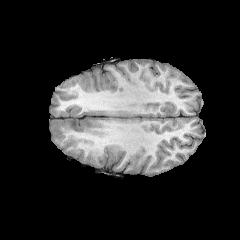glioma: (52, 120, 107, 141)
